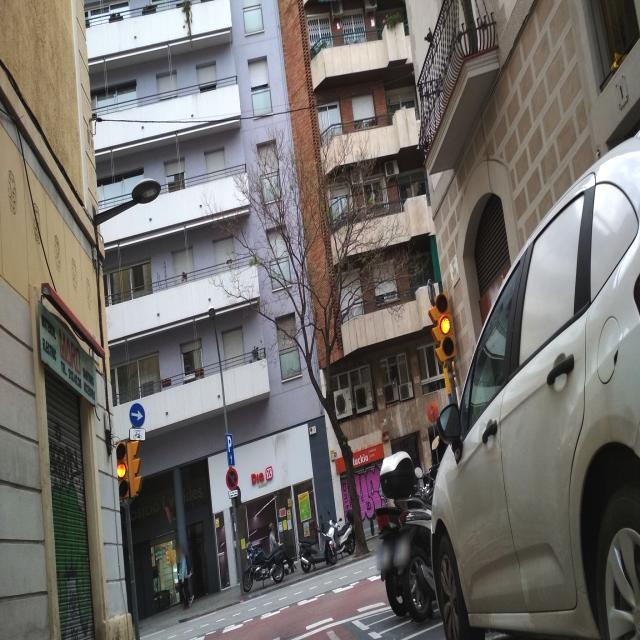bike: (377, 448, 436, 624), (242, 547, 284, 593)
car: (429, 112, 640, 638)
